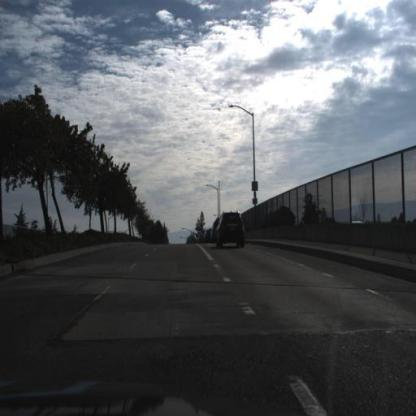car: (217, 214, 246, 250), (212, 217, 221, 243)
